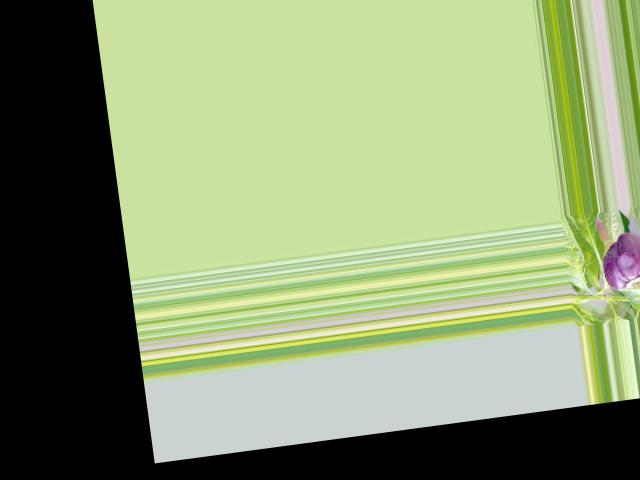bell_pepper: (597, 226, 640, 300)
